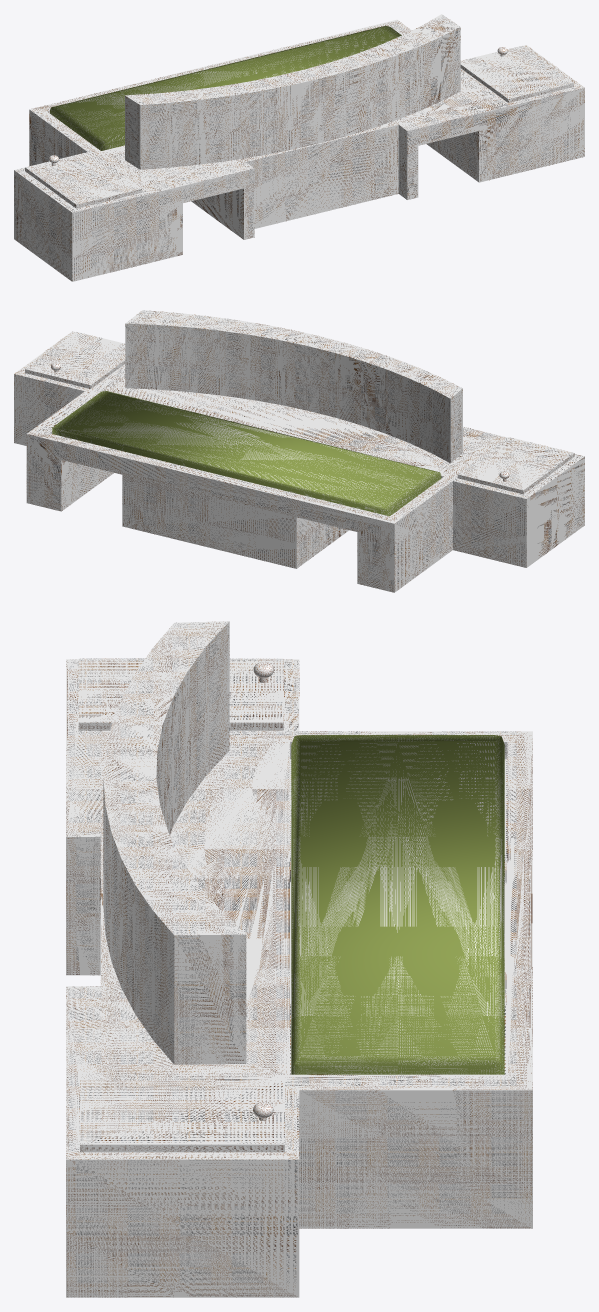
3 renders of one model, top to bottom at view 1: azimuth 30°, elevation 25°; view 2: azimuth 150°, elevation 25°; view 3: azimuth 270°, elevation 25°, orthographic. The views are drawn at different scales.
Visible parts, largest first — view 1: mesh6_mesh6-geometry, mesh2_mesh2-geometry, mesh1_mesh1-geometry; view 2: mesh6_mesh6-geometry, mesh2_mesh2-geometry, mesh1_mesh1-geometry; view 3: mesh6_mesh6-geometry, mesh1_mesh1-geometry, mesh2_mesh2-geometry.
Boxes of the visible parts, bbox=[...] form: mesh6_mesh6-geometry: bbox=[14, 14, 584, 281]; mesh2_mesh2-geometry: bbox=[50, 25, 401, 130]; mesh1_mesh1-geometry: bbox=[74, 114, 124, 150]; mesh6_mesh6-geometry: bbox=[14, 310, 584, 592]; mesh2_mesh2-geometry: bbox=[52, 409, 416, 516]; mesh1_mesh1-geometry: bbox=[77, 390, 441, 495]; mesh6_mesh6-geometry: bbox=[66, 621, 532, 1297]; mesh1_mesh1-geometry: bbox=[291, 735, 397, 1074]; mesh2_mesh2-geometry: bbox=[398, 735, 504, 1074].
Bounding box in the file's own units: 0.9062 × 0.2259 × 0.3575.
